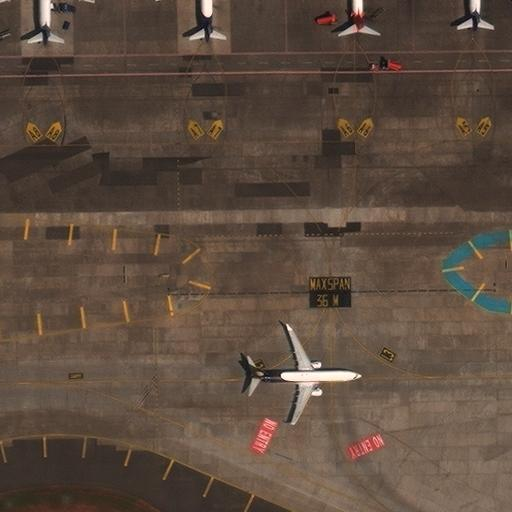Medium Civil Transport: (244, 325, 361, 424), (158, 0, 254, 42), (0, 0, 94, 40), (314, 0, 400, 32), (439, 0, 509, 29)
